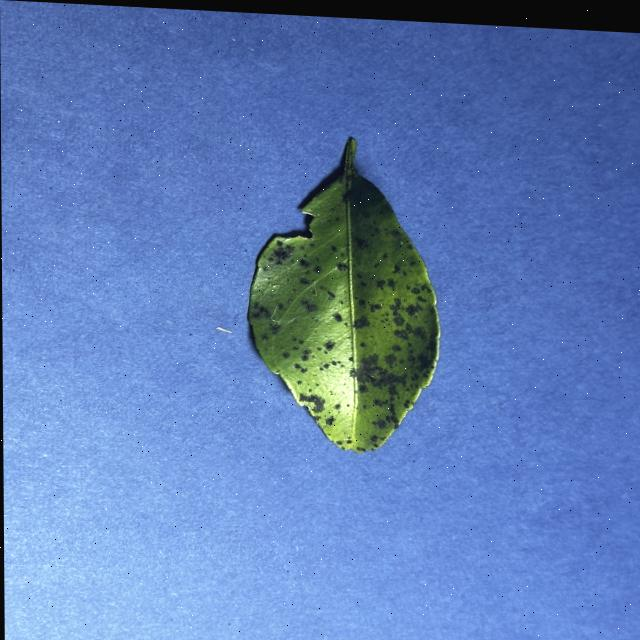sooty_mold: (248, 139, 439, 453)
